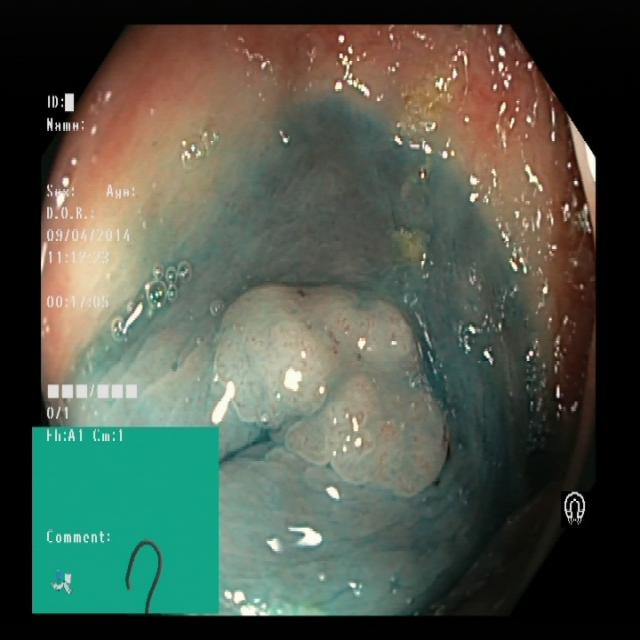dyed-lifted-polyps: (209, 269, 449, 510)
